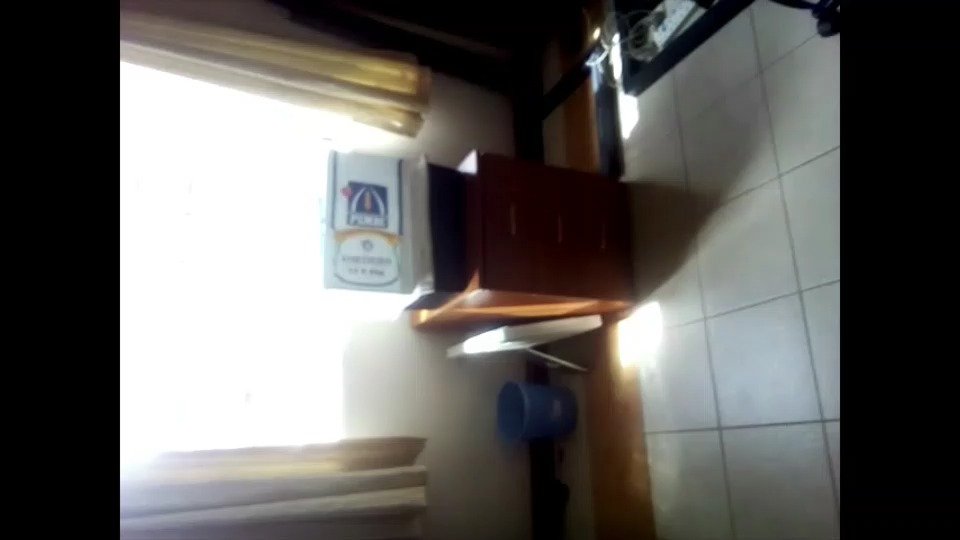wheat_flour_blue_label: (318, 148, 427, 288)
